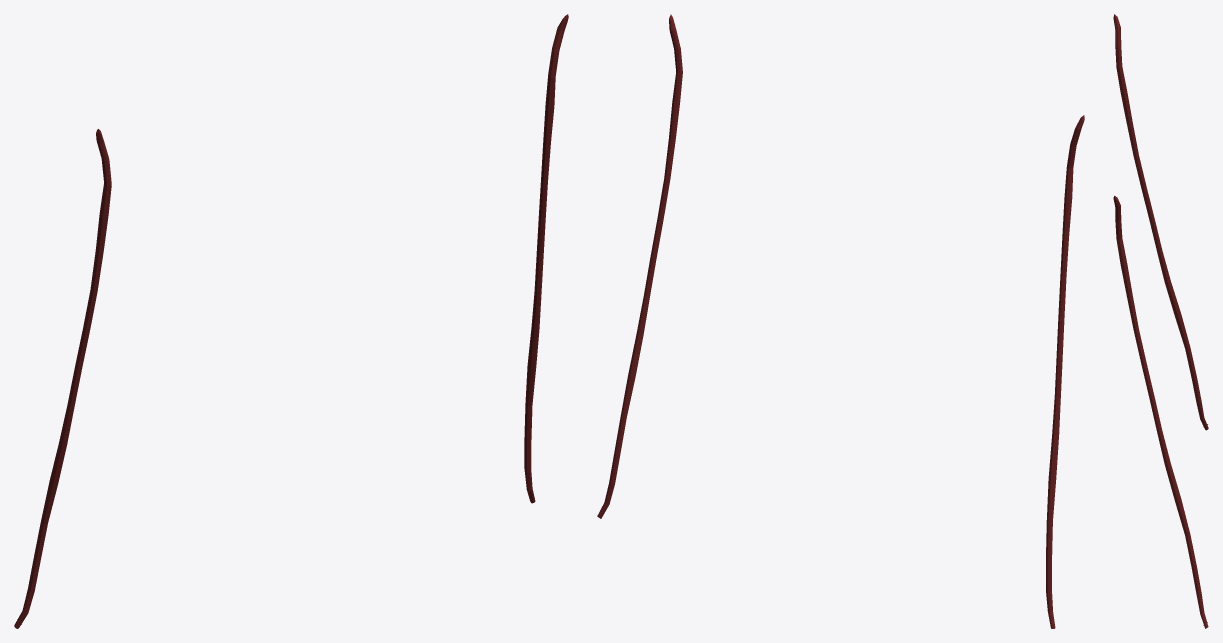
The model's file is Artéria Tibial Posterior.FBX.
3 views of the same model, side by side, from view 1: azimuth 30°, elevation 25°; view 2: azimuth 150°, elevation 25°; view 3: azimuth 270°, elevation 25° (orthographic). The views are drawn at different scales.
Visible parts, largest first — view 1: CS_Arterie; view 2: CS_Arterie; view 3: CS_Arterie.
Boxes of the visible parts, bbox=[...] form: CS_Arterie: bbox=[14, 14, 568, 628]; CS_Arterie: bbox=[597, 14, 1084, 628]; CS_Arterie: bbox=[1113, 14, 1208, 628].
Size of the model in its own units: 1054 by 1039 by 211.
